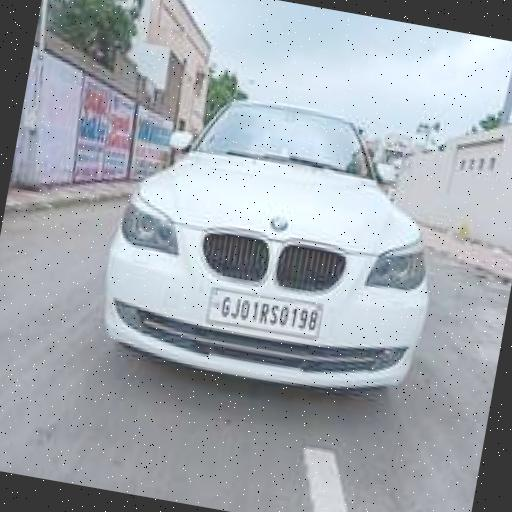license_plate`: (206, 284, 320, 335)
